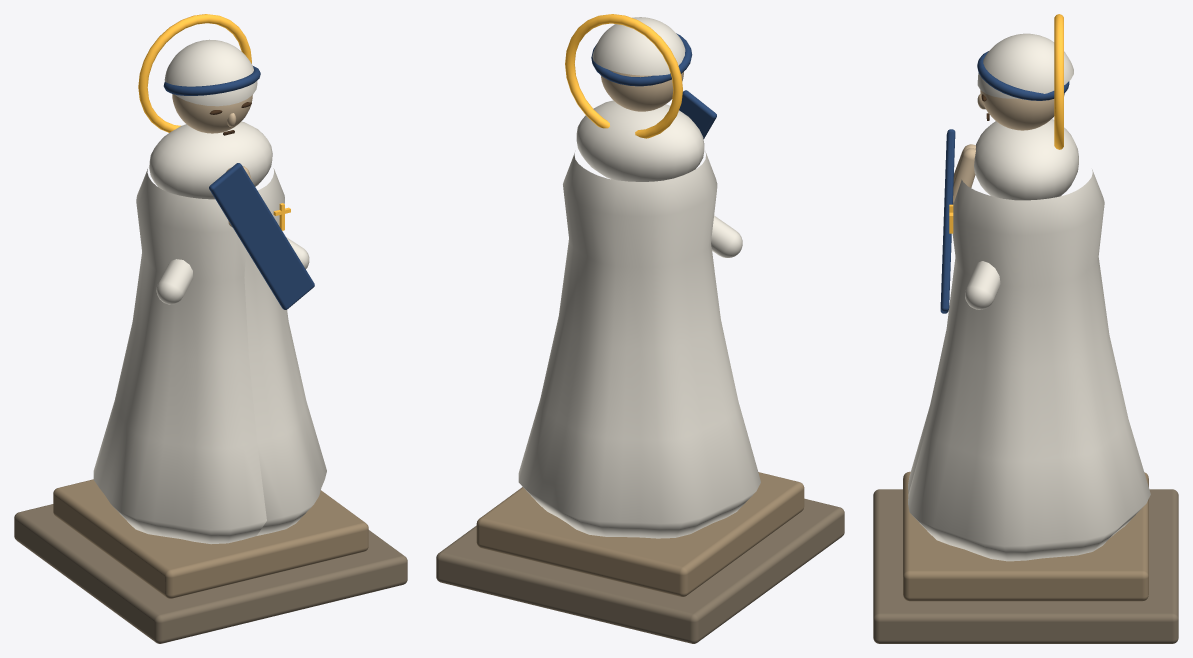
The model's file is statue-teresacalcutta.glb.
3 renders of one model, left to right at view 1: azimuth 30°, elevation 25°; view 2: azimuth 150°, elevation 25°; view 3: azimuth 270°, elevation 25°, orthographic. The views are drawn at different scales.
Parts seen in each view (by area): view 1: Robe, PlinthLow, PlinthTop, Shoulders, Sash, Veil, object 18, Head, Arm, HeadG; view 2: Robe, PlinthLow, PlinthTop, Shoulders, Veil, object 18, Head, HeadG, Arm, Sash; view 3: Robe, PlinthLow, PlinthTop, Shoulders, Veil, Head, Sash, object 18, Arm, HeadG, Hand.
Boxes of the visible parts, bbox=[...] form: Robe: bbox=[93, 168, 326, 544]; PlinthLow: bbox=[14, 504, 407, 643]; PlinthTop: bbox=[53, 479, 368, 598]; Shoulders: bbox=[149, 121, 272, 199]; Sash: bbox=[209, 163, 314, 309]; Veil: bbox=[164, 39, 257, 106]; object 18: bbox=[138, 14, 251, 132]; Head: bbox=[172, 94, 252, 133]; Arm: bbox=[156, 259, 193, 304]; HeadG: bbox=[163, 66, 260, 95]; Robe: bbox=[518, 151, 760, 538]; PlinthLow: bbox=[436, 498, 844, 643]; PlinthTop: bbox=[476, 472, 804, 596]; Shoulders: bbox=[576, 100, 704, 181]; Veil: bbox=[592, 17, 685, 75]; object 18: bbox=[565, 14, 682, 138]; Head: bbox=[600, 70, 683, 111]; HeadG: bbox=[591, 33, 692, 86]; Arm: bbox=[711, 215, 742, 257]; Sash: bbox=[679, 90, 716, 138]; Robe: bbox=[908, 169, 1150, 561]; PlinthLow: bbox=[873, 489, 1178, 643]; PlinthTop: bbox=[903, 471, 1148, 601]; Shoulders: bbox=[974, 119, 1078, 200]; Veil: bbox=[977, 33, 1073, 98]; Head: bbox=[980, 90, 1064, 130]; Sash: bbox=[940, 129, 955, 313]; object 18: bbox=[1054, 14, 1063, 149]; Arm: bbox=[965, 261, 1000, 309]; HeadG: bbox=[977, 51, 1069, 100]; Hand: bbox=[953, 148, 975, 204].
Size of the model in its own units: 0.92 by 1.86 by 0.92.
